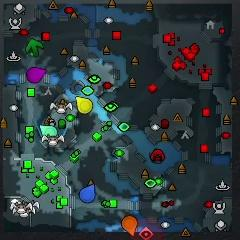p1: (80, 184, 95, 202)
p2: (40, 125, 58, 137)
p3: (27, 67, 47, 83)
p4: (75, 96, 92, 114)
p5: (122, 215, 138, 236)
x4: (25, 38, 43, 57)
